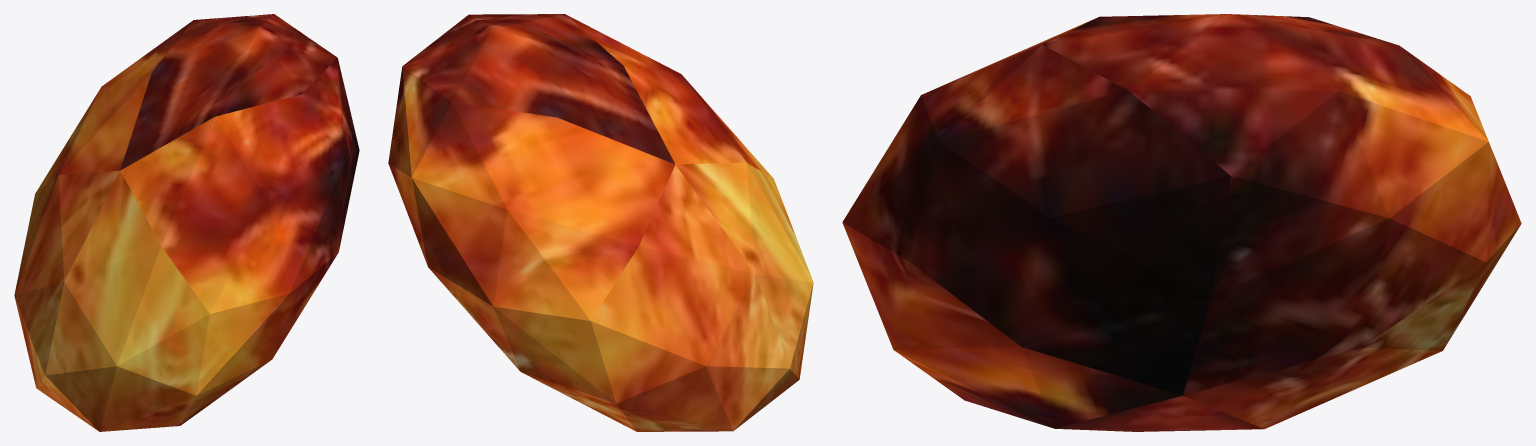
Rendered from ResultEarth11.obj.
3 views of the same model, side by side, from view 1: azimuth 30°, elevation 25°; view 2: azimuth 150°, elevation 25°; view 3: azimuth 270°, elevation 25° (orthographic). The views are drawn at different scales.
Visible parts, largest first — view 1: ICO球; view 2: ICO球; view 3: ICO球.
Part boxes in pixels (box(x1,y1,x2,y2)): ICO球: box(14, 14, 359, 431); ICO球: box(388, 14, 813, 431); ICO球: box(842, 14, 1521, 431).
Size of the model in its own units: 0.1662 by 0.1671 by 0.1842.
1 material, 1 textured.
